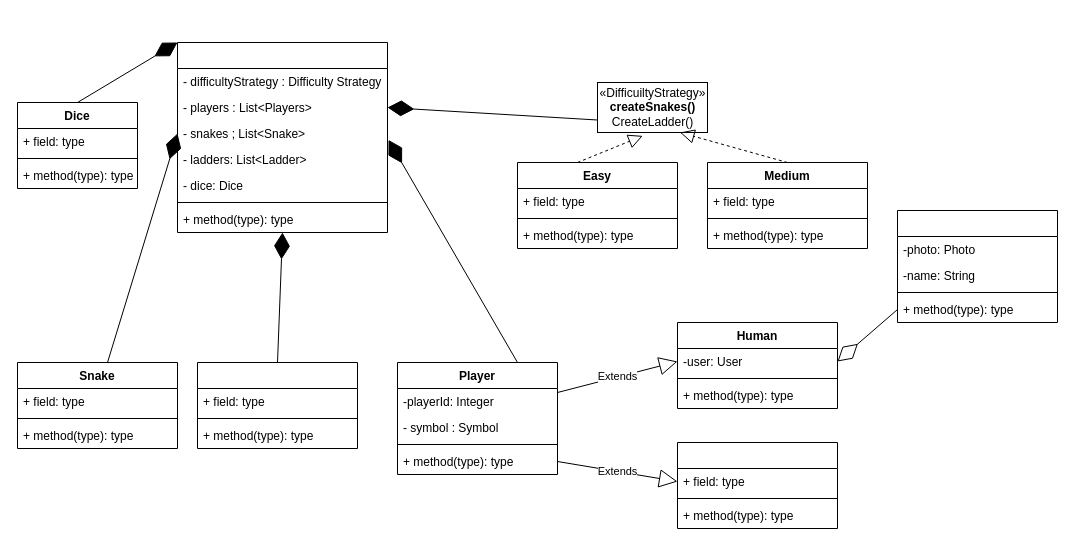
Image size: 1075x549. Some labels were removed from this diagram. Here are the shapes that lost their labels. From the top down, the box of each, then its label:
(176, 42, 388, 232): Game
(896, 210, 1058, 322): User
(196, 362, 358, 448): Ladder
(676, 442, 838, 528): Computer
